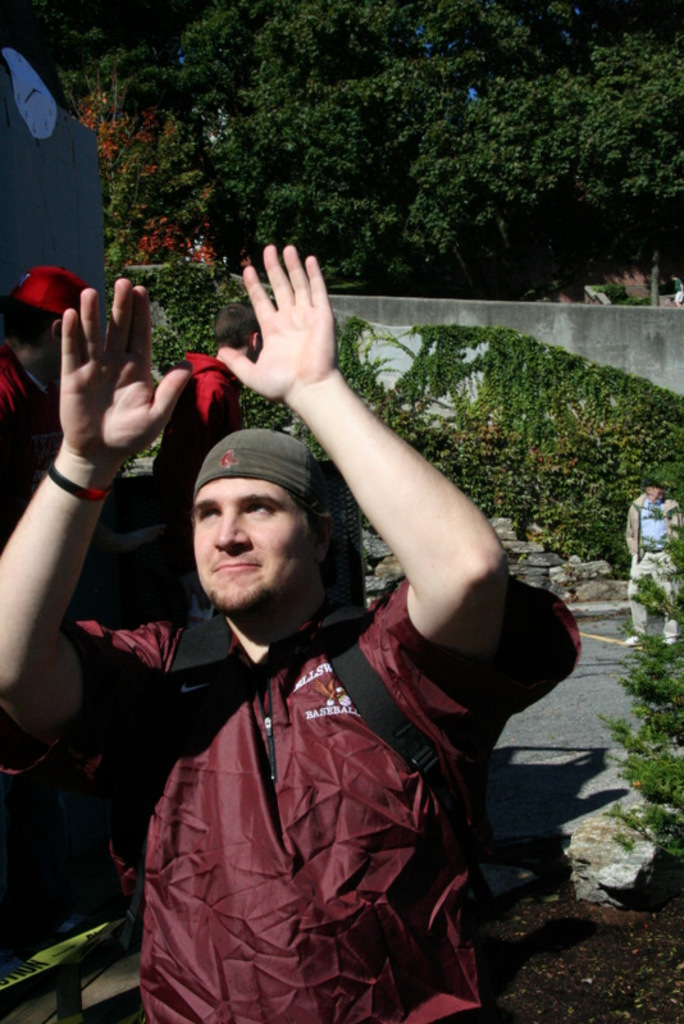Tree: (0, 2, 682, 316), (146, 266, 338, 441)
